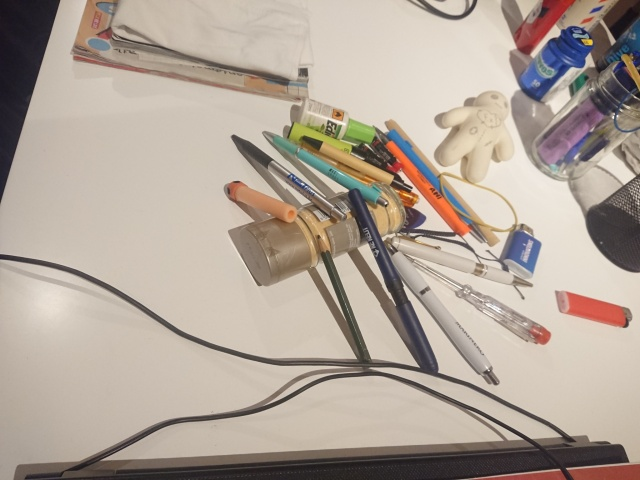Kotanyi Garlic Granules 70g: (235, 180, 409, 289)
